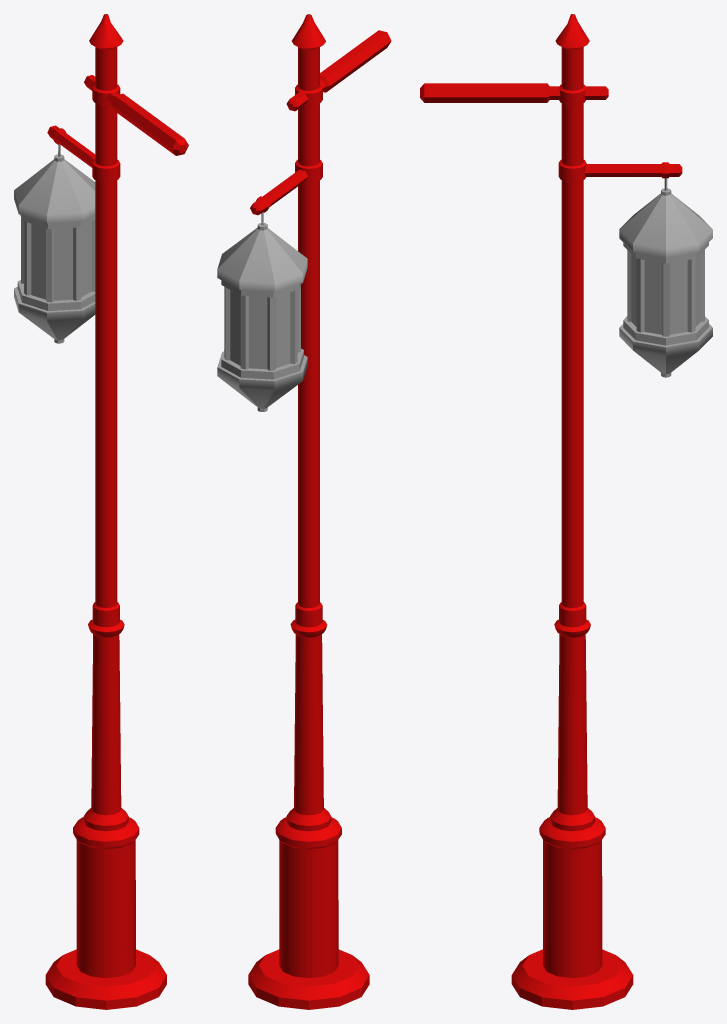
The model's file is Coat of arms pillar.fbx.
3 renders of one model, left to right at view 1: azimuth 30°, elevation 25°; view 2: azimuth 150°, elevation 25°; view 3: azimuth 270°, elevation 25°, orthographic.
Parts seen in each view (by area): view 1: pCylinder5; view 2: pCylinder5; view 3: pCylinder5.
Part boxes in pixels (x1,y1,x2,y2): pCylinder5: (14,14,188,1009); pCylinder5: (217,14,391,1009); pCylinder5: (420,14,712,1009).
Size of the model in its own units: 23.02 by 203 by 55.46.
